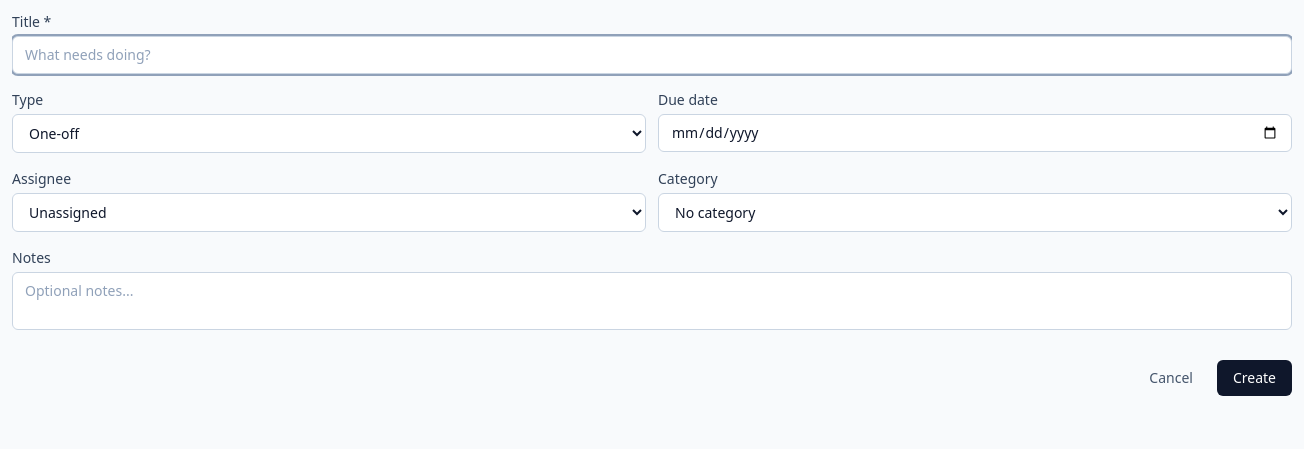
Scenario: TaskForm › shows error message when createTask rejects
The width and height of the screenshot is (1304, 449).
Type "New task" into the field labelled "Title *" at (652, 55), box [12, 36, 1292, 74]
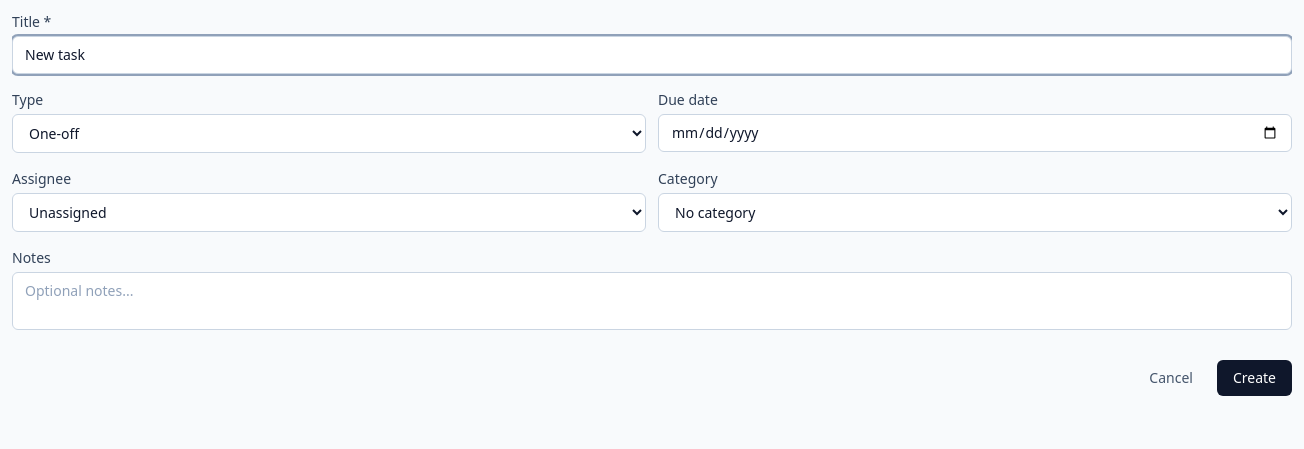
Click the button "Create" at (1254, 378), box [1217, 360, 1292, 396]
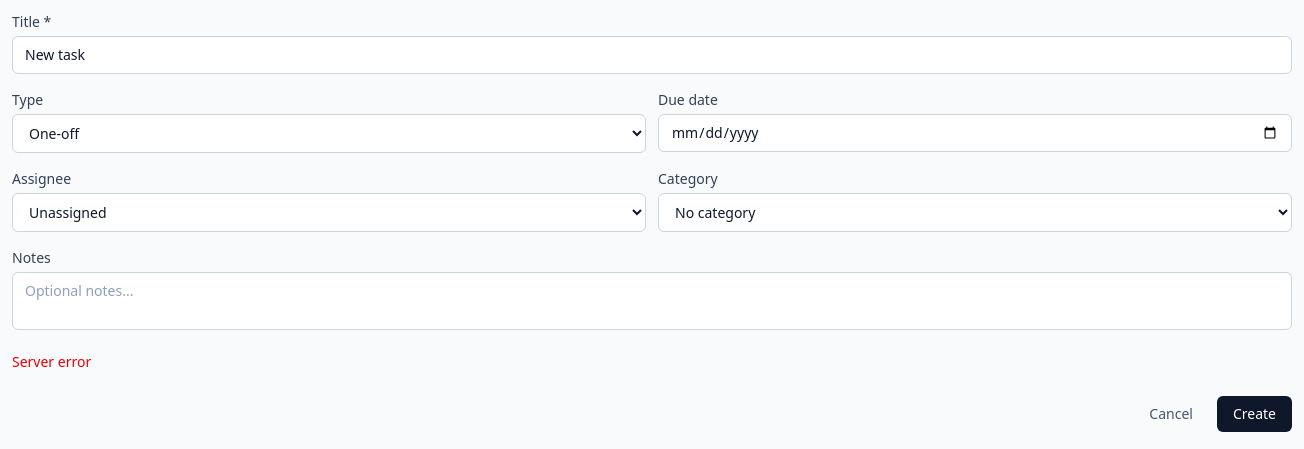
Check: the text "Server error" is shown, box [12, 352, 91, 371]
